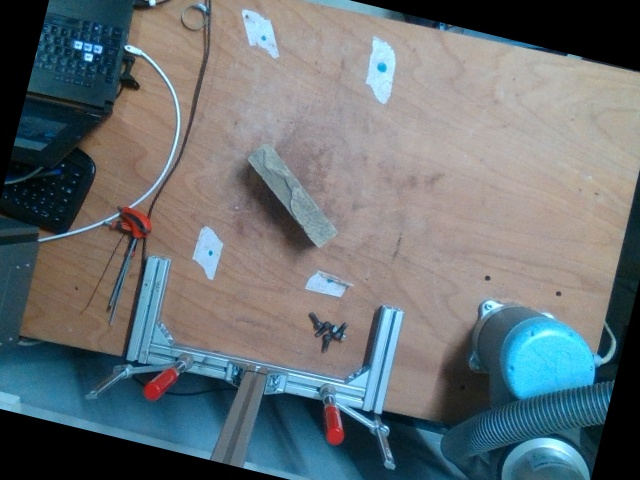brick-side: (251, 147, 336, 244)
